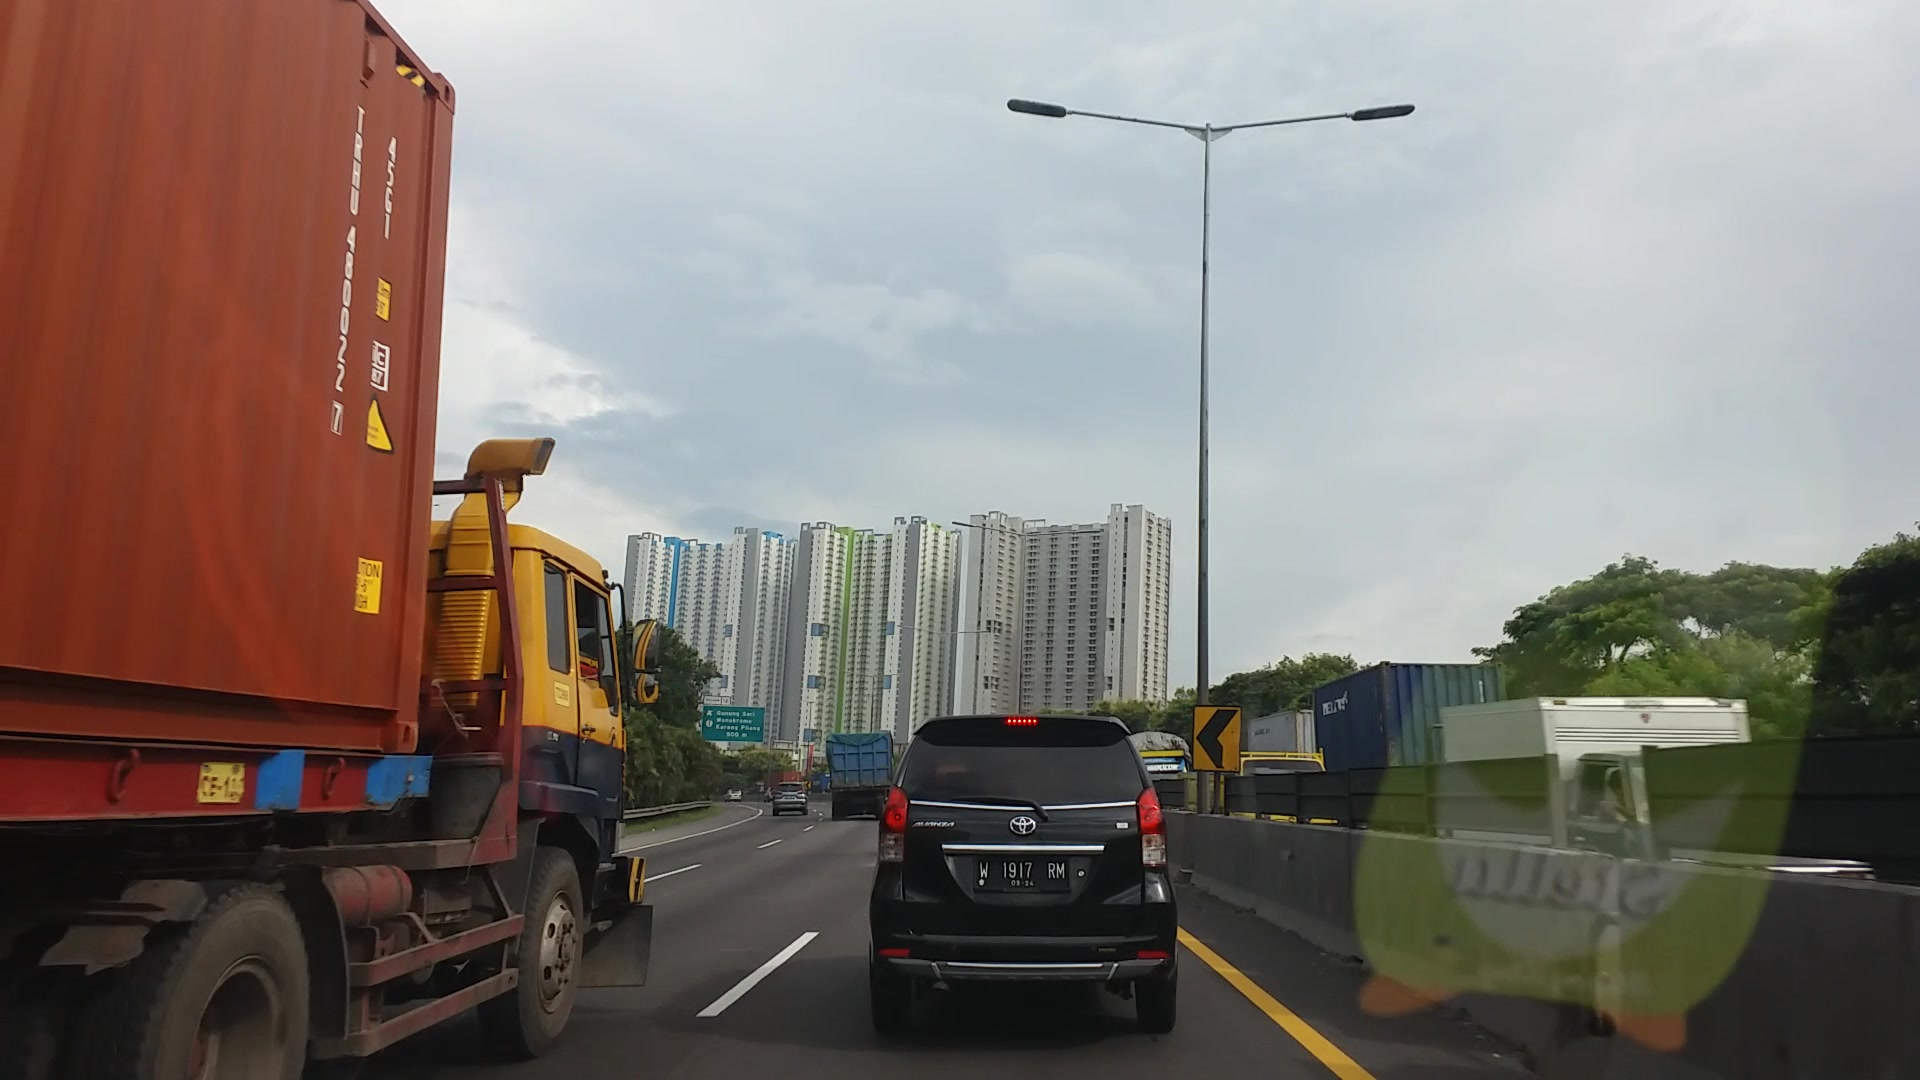plate_positive: (975, 855, 1069, 891)
